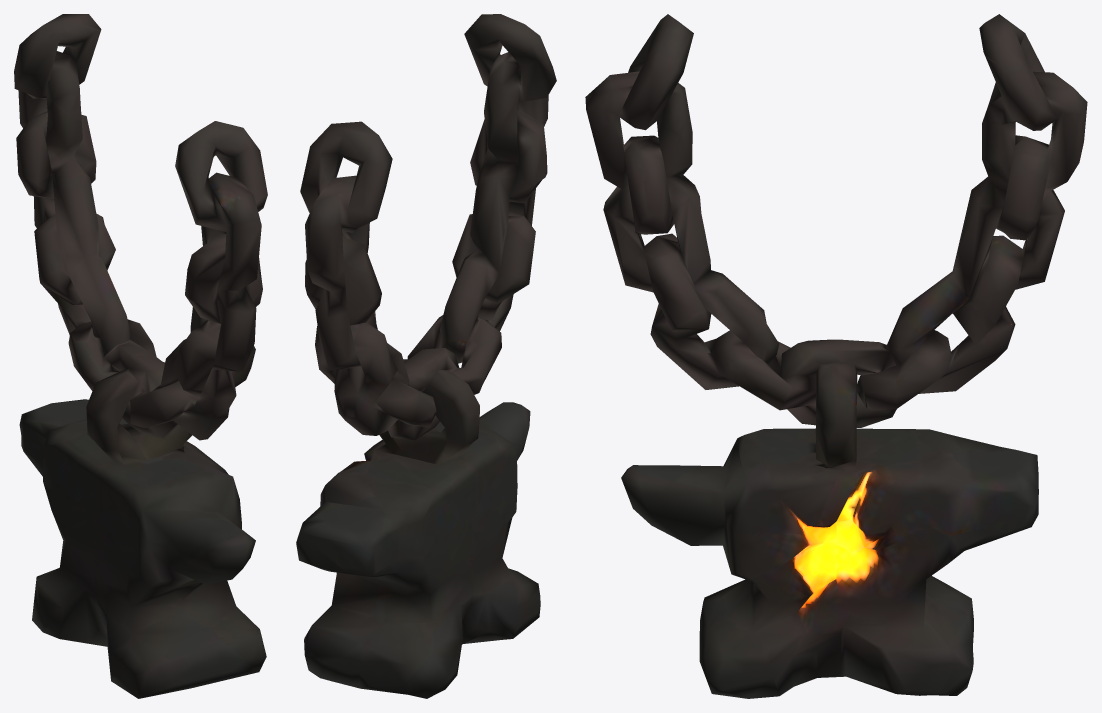
File: uq_amu_forgeheart-CtI9FJoT.glb
The picture shows the model from 3 angles, left to right: view 1: azimuth 30°, elevation 25°; view 2: azimuth 150°, elevation 25°; view 3: azimuth 270°, elevation 25°; orthographic projection. The views are drawn at different scales.
Visible parts, largest first — view 1: tripo_node_00cd8df7-7567-4289-93a0-f0e919da767d; view 2: tripo_node_00cd8df7-7567-4289-93a0-f0e919da767d; view 3: tripo_node_00cd8df7-7567-4289-93a0-f0e919da767d.
Part boxes in pixels (x1,y1,x2,y2): tripo_node_00cd8df7-7567-4289-93a0-f0e919da767d: (14, 14, 267, 698); tripo_node_00cd8df7-7567-4289-93a0-f0e919da767d: (296, 14, 556, 698); tripo_node_00cd8df7-7567-4289-93a0-f0e919da767d: (585, 14, 1087, 698).
Size of the model in its own units: 0.2354 by 1 by 0.703.
1 material, 1 textured.
